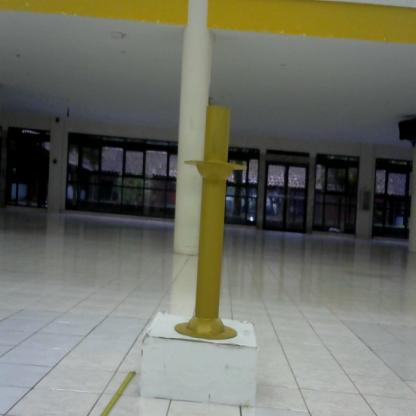pole: (170, 99, 251, 348)
